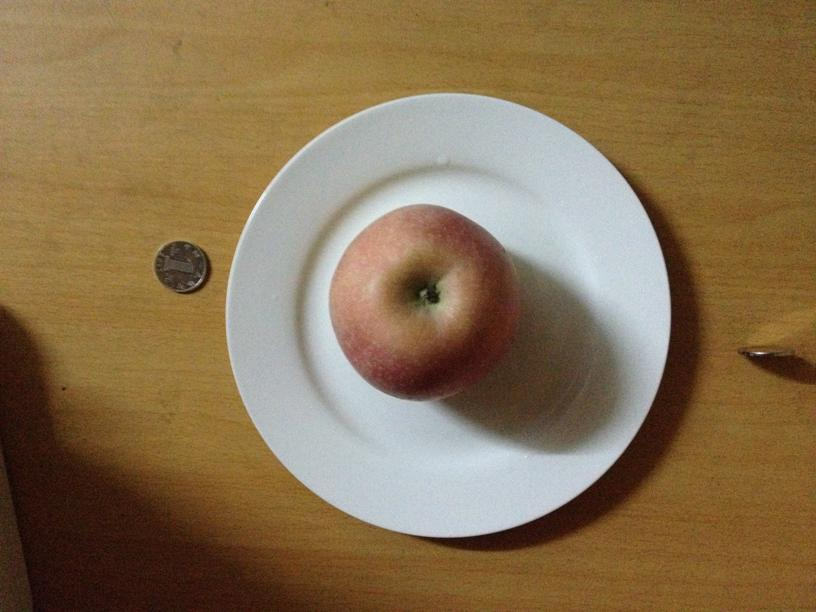apple: (326, 206, 520, 400)
coin: (150, 238, 208, 292)
